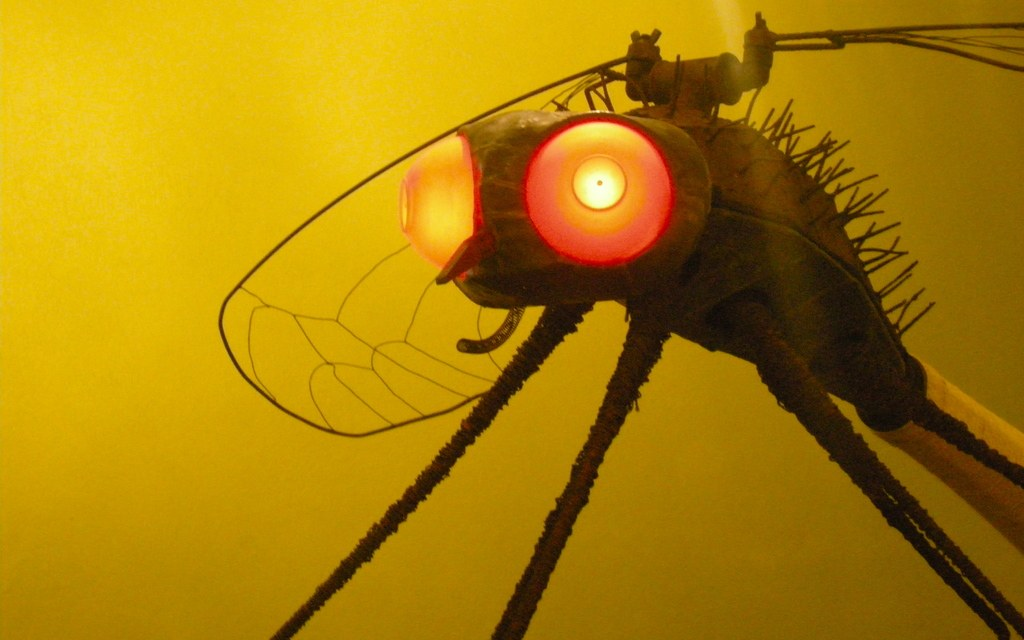insect: (216, 8, 1023, 639)
